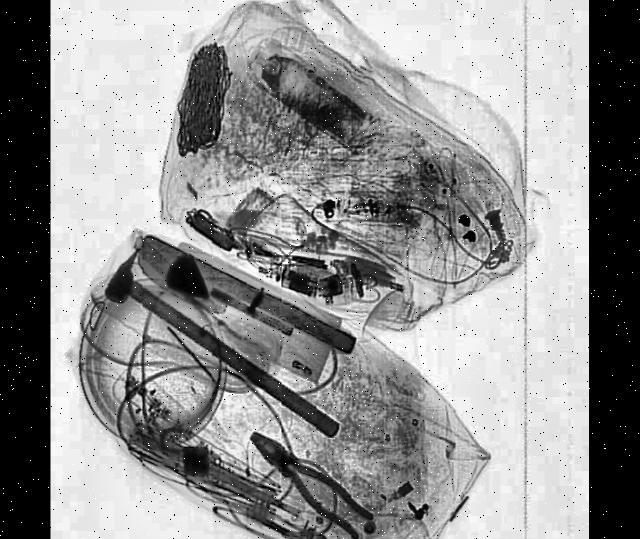Pliers: (245, 415, 376, 539)
